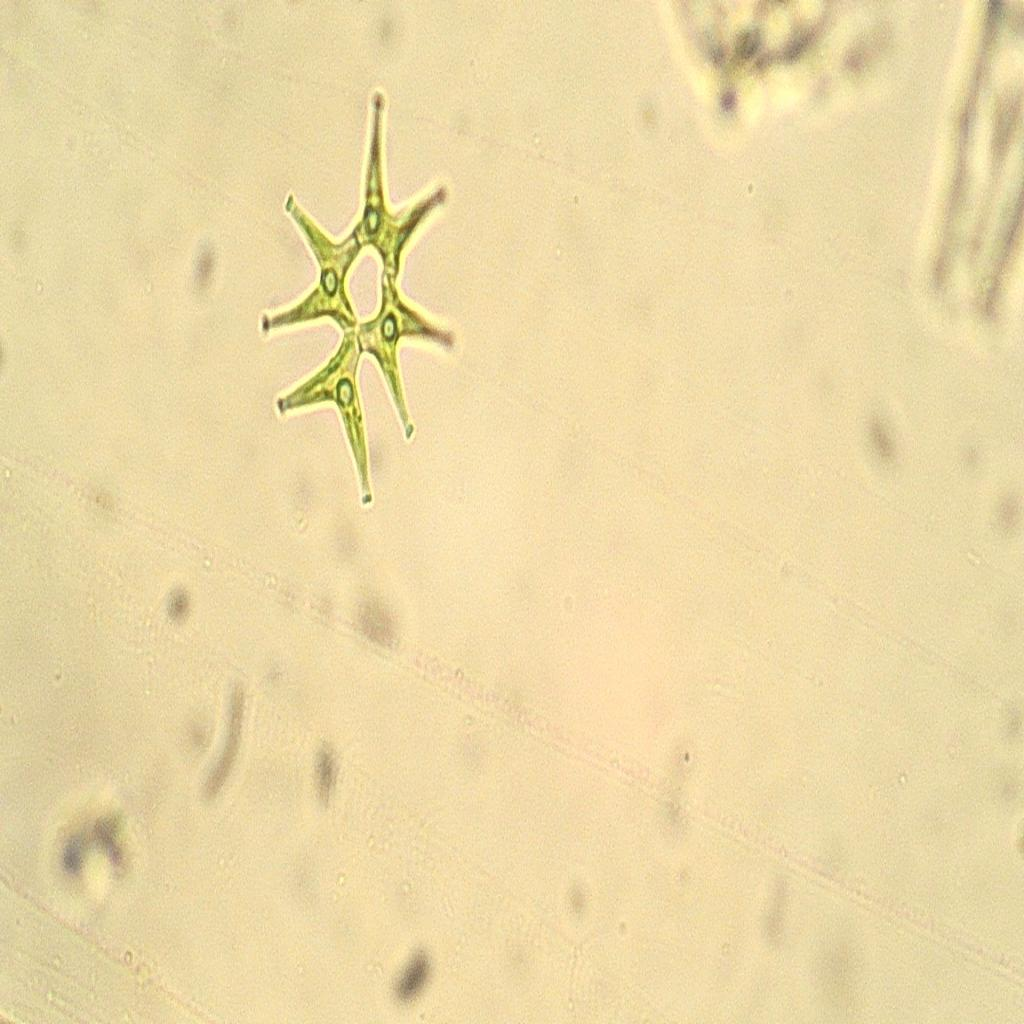Pediastrum_75FI: (256, 73, 468, 524)
